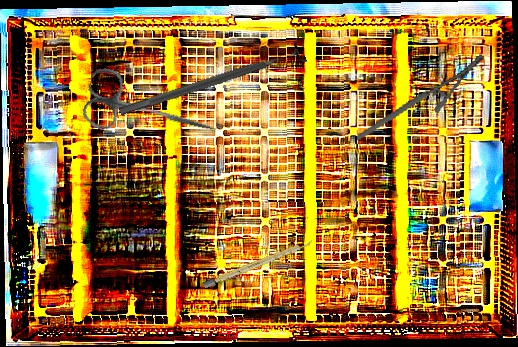Fixation Ring: (115, 34, 308, 126)
Iris Scissors: (79, 65, 225, 157)
Needle Holder: (344, 52, 496, 142)
Scalpel Handle: (202, 238, 315, 289)
